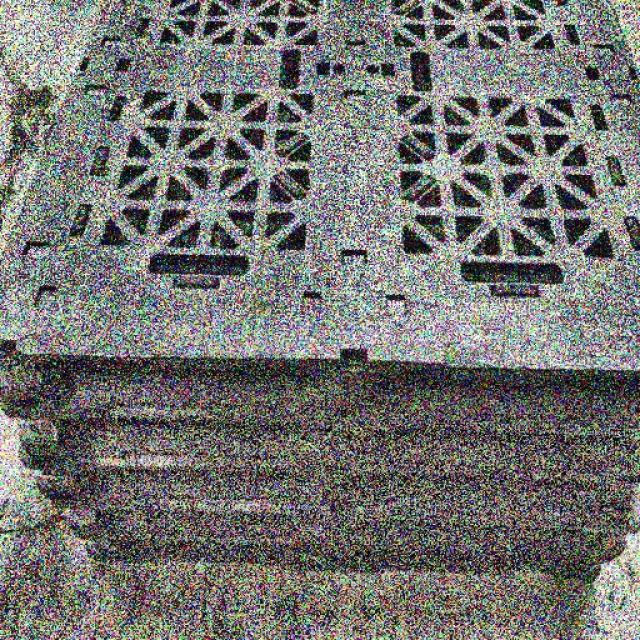igps: (0, 0, 640, 425), (12, 399, 639, 496), (26, 468, 640, 543), (49, 498, 630, 566), (73, 526, 603, 589)
